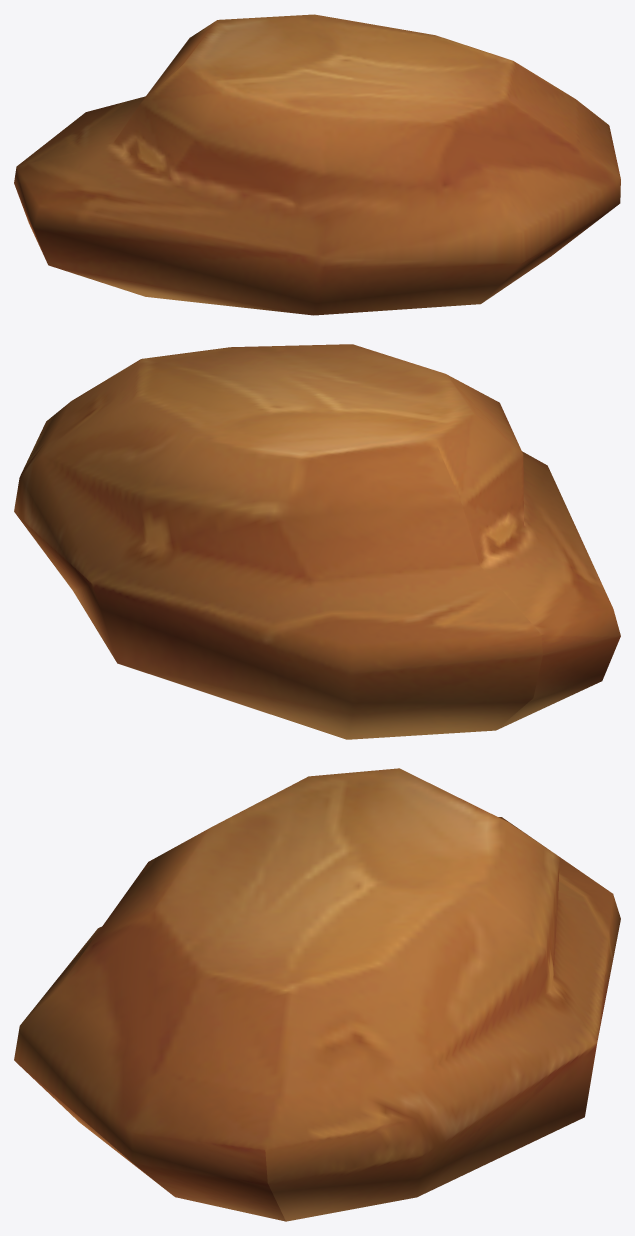
Rendered from huangyexingqiu_shitou03.FBX.
The picture shows the model from 3 angles, top to bottom: view 1: azimuth 30°, elevation 25°; view 2: azimuth 150°, elevation 25°; view 3: azimuth 270°, elevation 25°; orthographic projection. The views are drawn at different scales.
Visible parts, largest first — view 1: huangyexingqiu_shitou03; view 2: huangyexingqiu_shitou03; view 3: huangyexingqiu_shitou03.
Boxes of the visible parts, box(x1,y1,x2,y2) form: huangyexingqiu_shitou03: box(14, 14, 620, 315); huangyexingqiu_shitou03: box(14, 344, 620, 739); huangyexingqiu_shitou03: box(14, 768, 620, 1221).
Bounding box in the file's own units: 2583 × 1041 × 2004.
